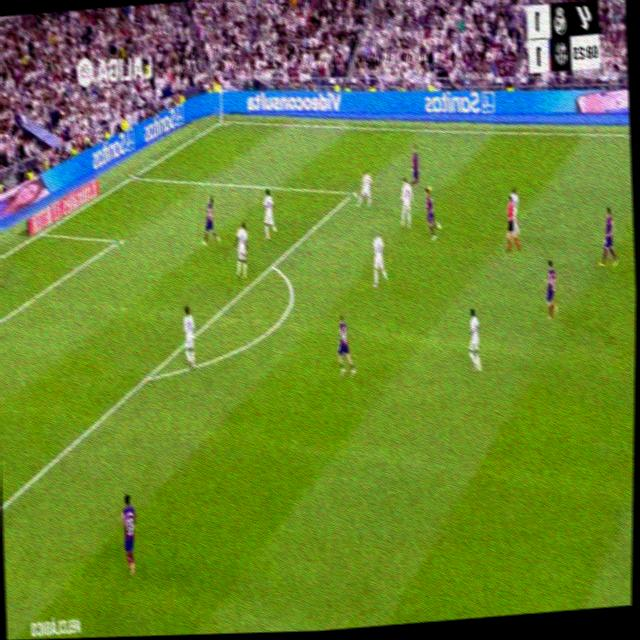bigarea_top_inner: (347, 183, 358, 202)
bigarea_top_outter: (128, 167, 139, 184)
bottom_arc_area_intersection: (141, 364, 155, 389)
corner: (215, 114, 228, 128)
smallarea_top_inner: (111, 231, 124, 250)
top_arc_area_intersection: (266, 254, 278, 275)
